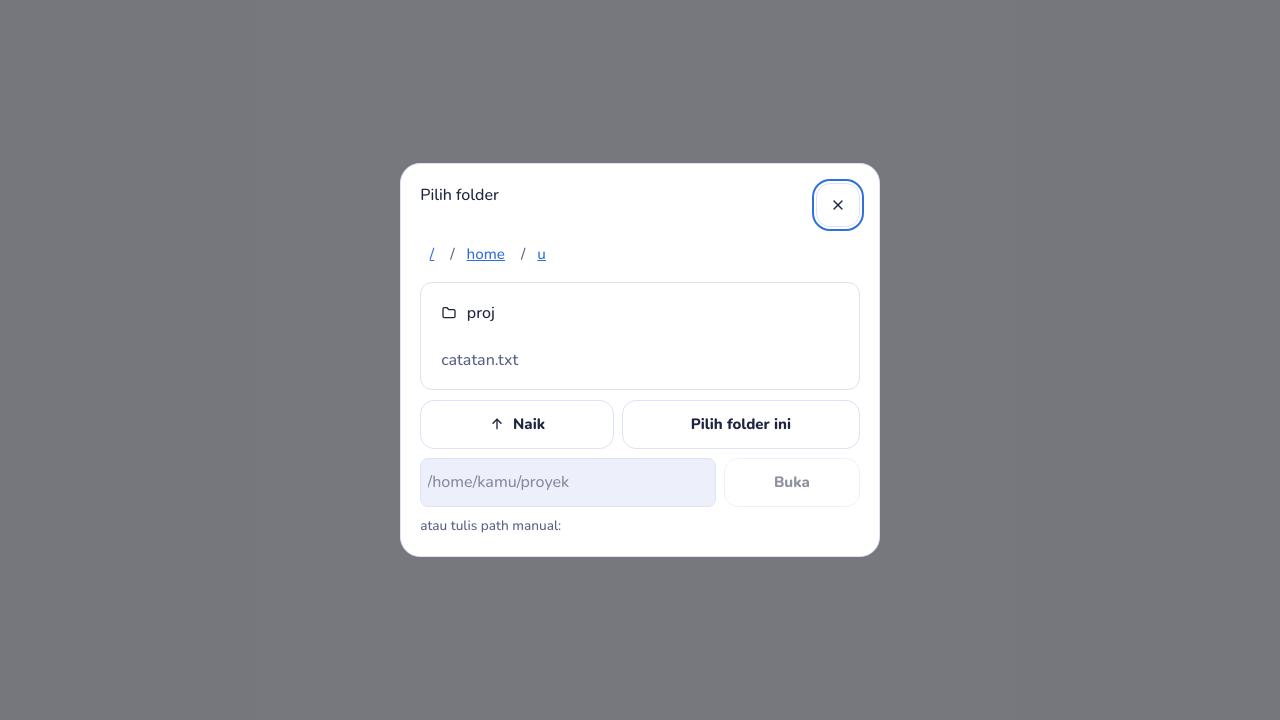
Test: DirPicker (FITUR B) › input manual sebagai fallback menavigasi
expect the list item with test id "dir-entry-proj" is shown: met, box 429,291 -> 851,334
Type "/tmp" into the field with test id "dir-picker-input" at (568, 482), box 420,458 -> 716,507
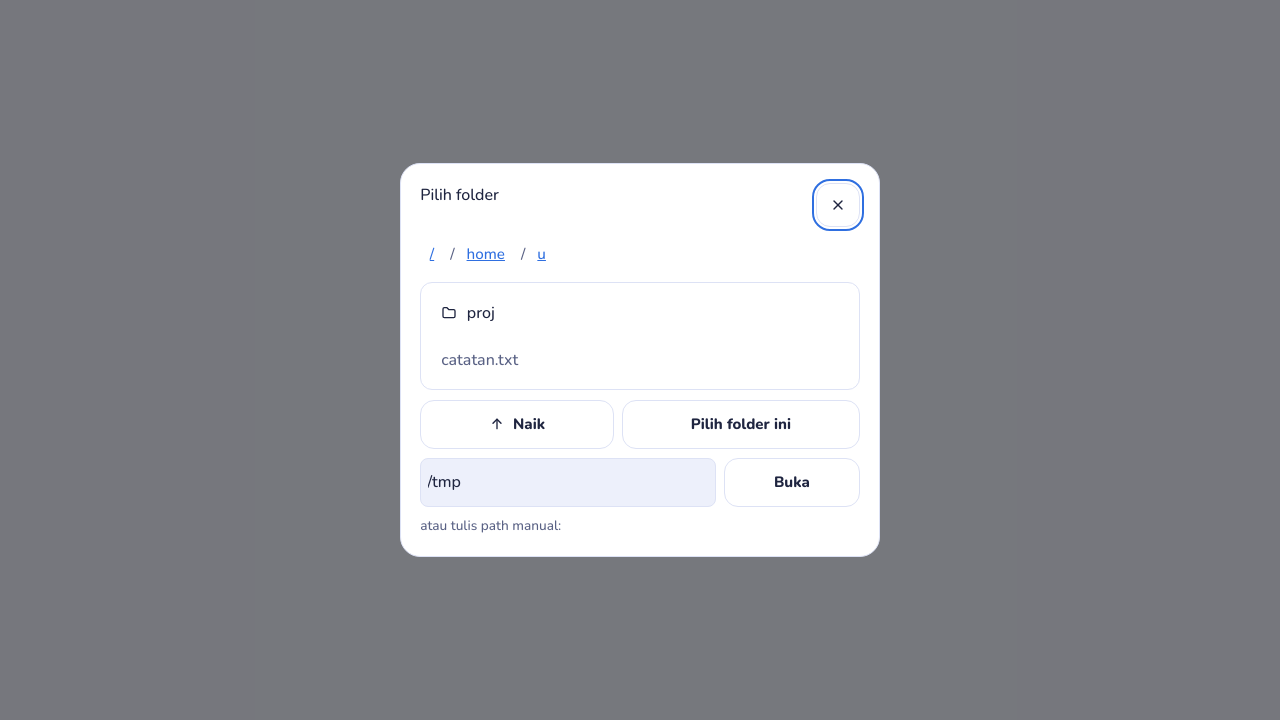
Click the button with test id "dir-picker-go" at (792, 482), box 724,458 -> 860,507
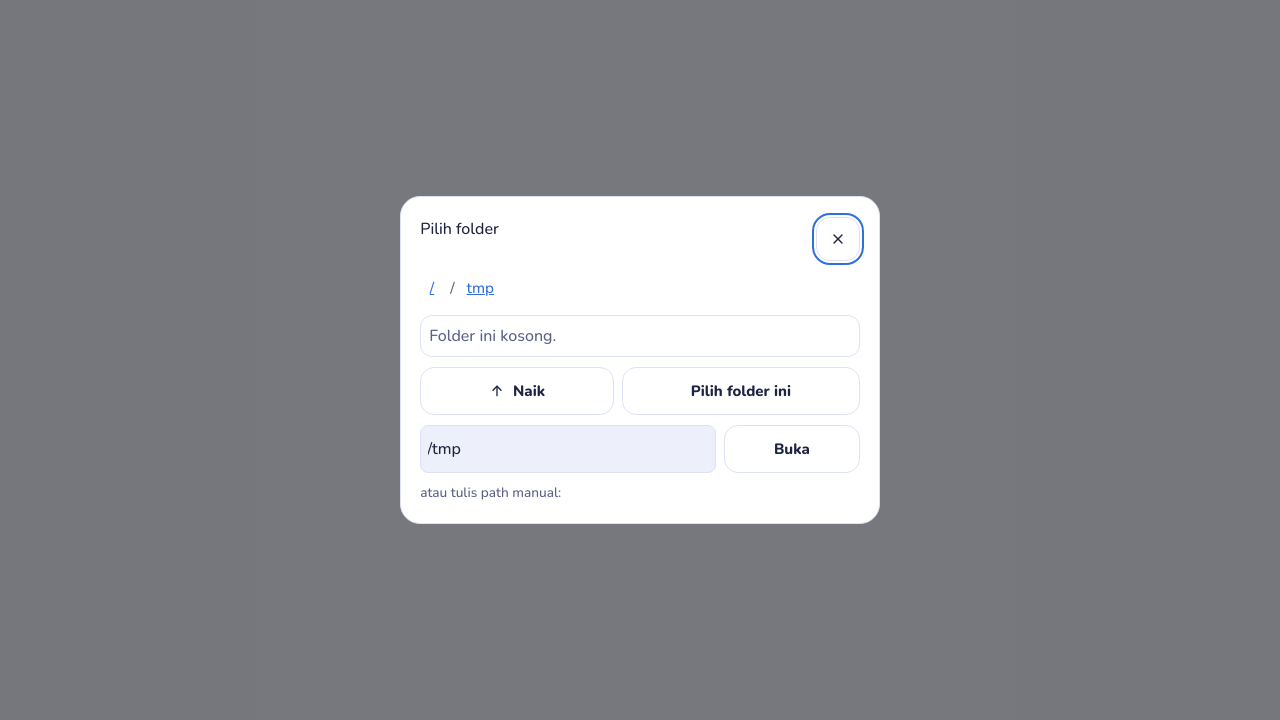
expect the text "Folder ini kosong." is shown: met, box 429,325 -> 556,347
